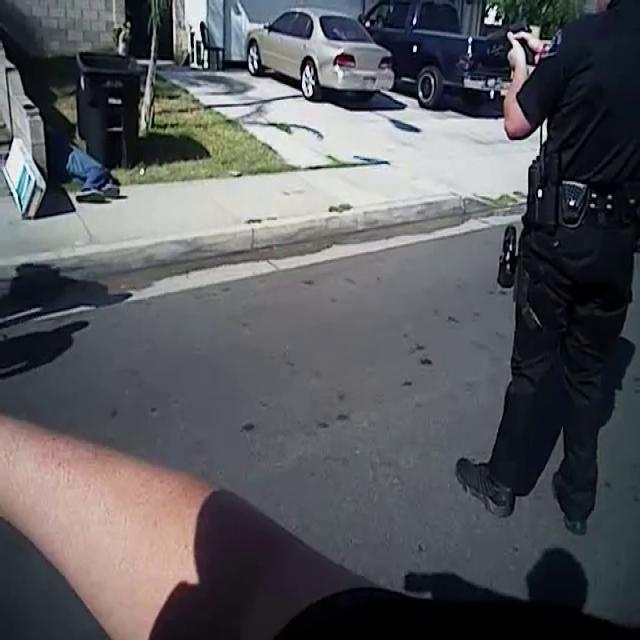gun: (476, 9, 548, 86)
